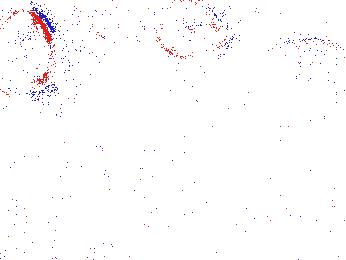moon jellyfish: (47, 1, 118, 97), (1, 6, 64, 103), (146, 1, 228, 63), (273, 38, 346, 104), (203, 11, 291, 43)
